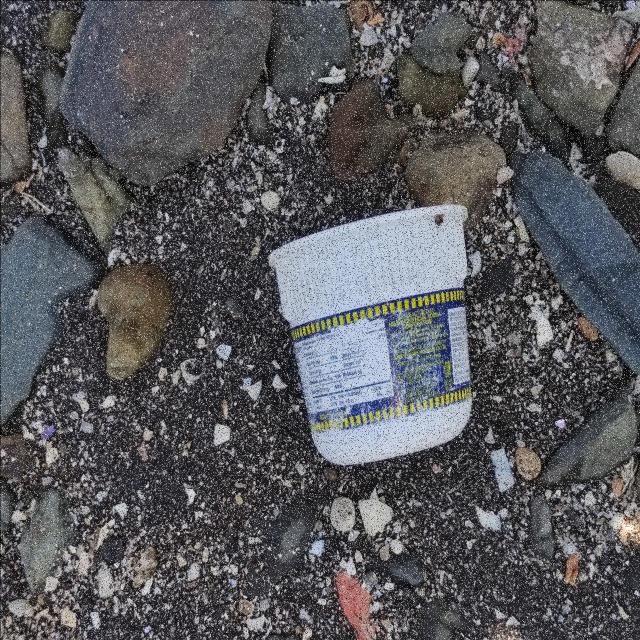plastic_waste: (269, 198, 472, 462)
